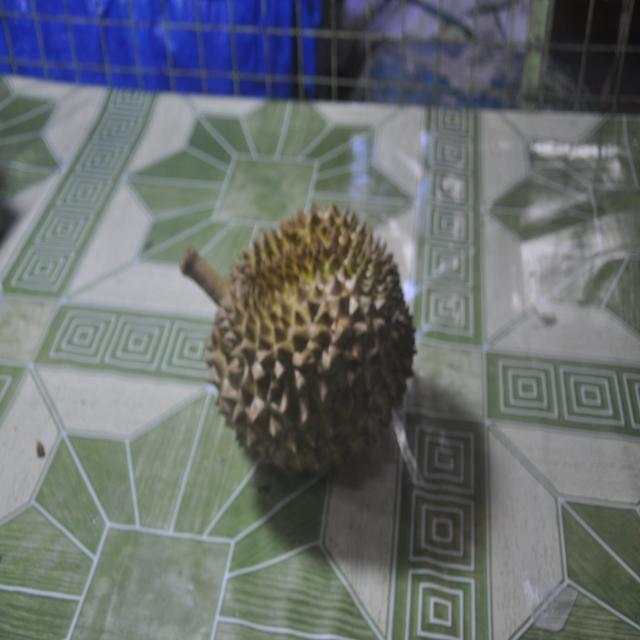mature: (181, 205, 415, 471)
